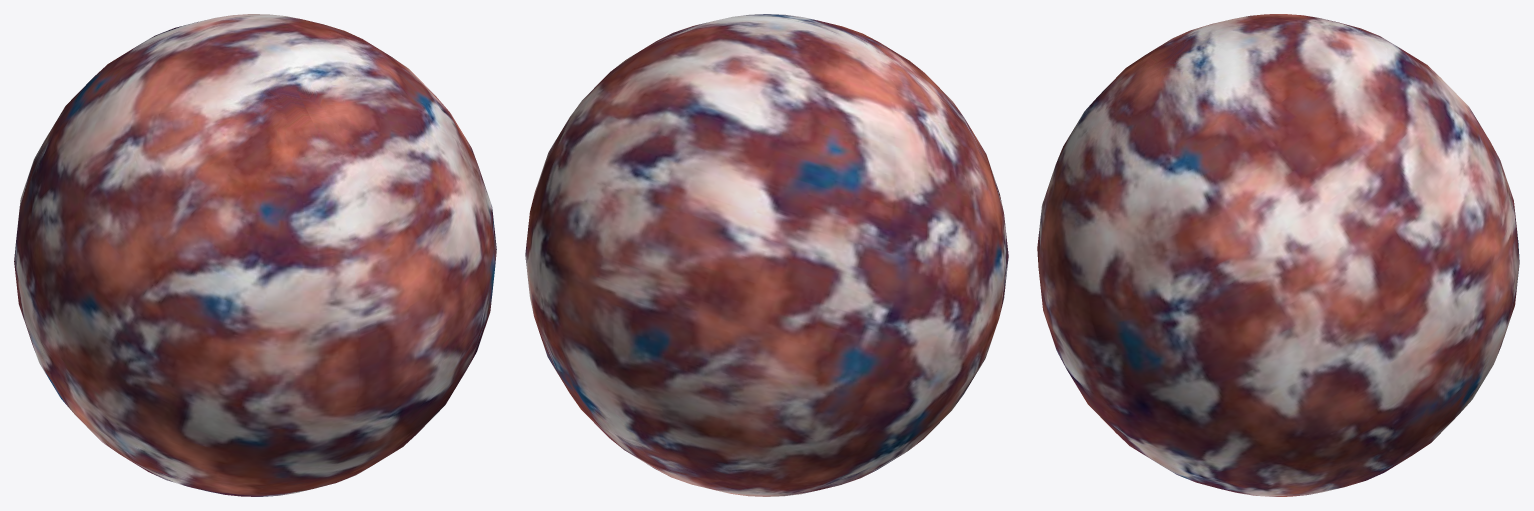
The model's file is Planets.obj.
The picture shows the model from 3 angles, left to right: view 1: azimuth 30°, elevation 25°; view 2: azimuth 150°, elevation 25°; view 3: azimuth 270°, elevation 25°; orthographic projection.
Visible parts, largest first — view 1: Sphere.002; view 2: Sphere.002; view 3: Sphere.002.
Part boxes in pixels (x1=…): Sphere.002: x1=14, y1=14, x2=496, y2=496; Sphere.002: x1=525, y1=14, x2=1008, y2=496; Sphere.002: x1=1037, y1=14, x2=1519, y2=496.
Bounding box in the file's own units: 1.46 × 1.46 × 1.46.
Materials: 1 (1 with a texture image).
